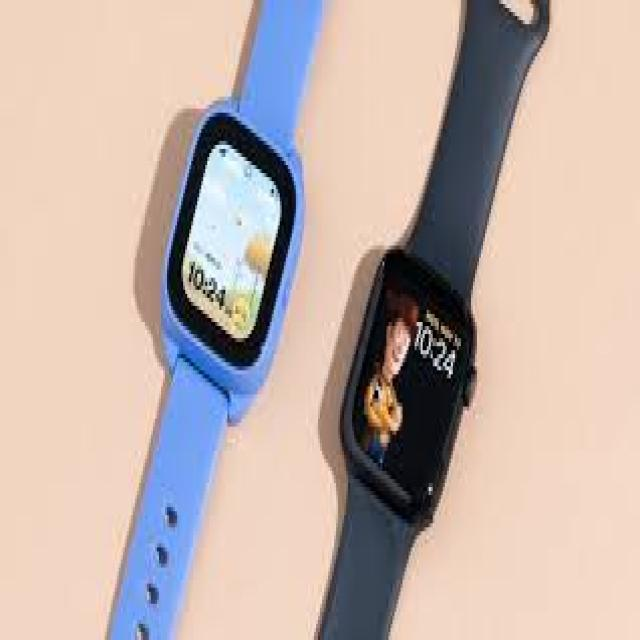objects: (318, 0, 547, 636), (109, 0, 320, 636)
